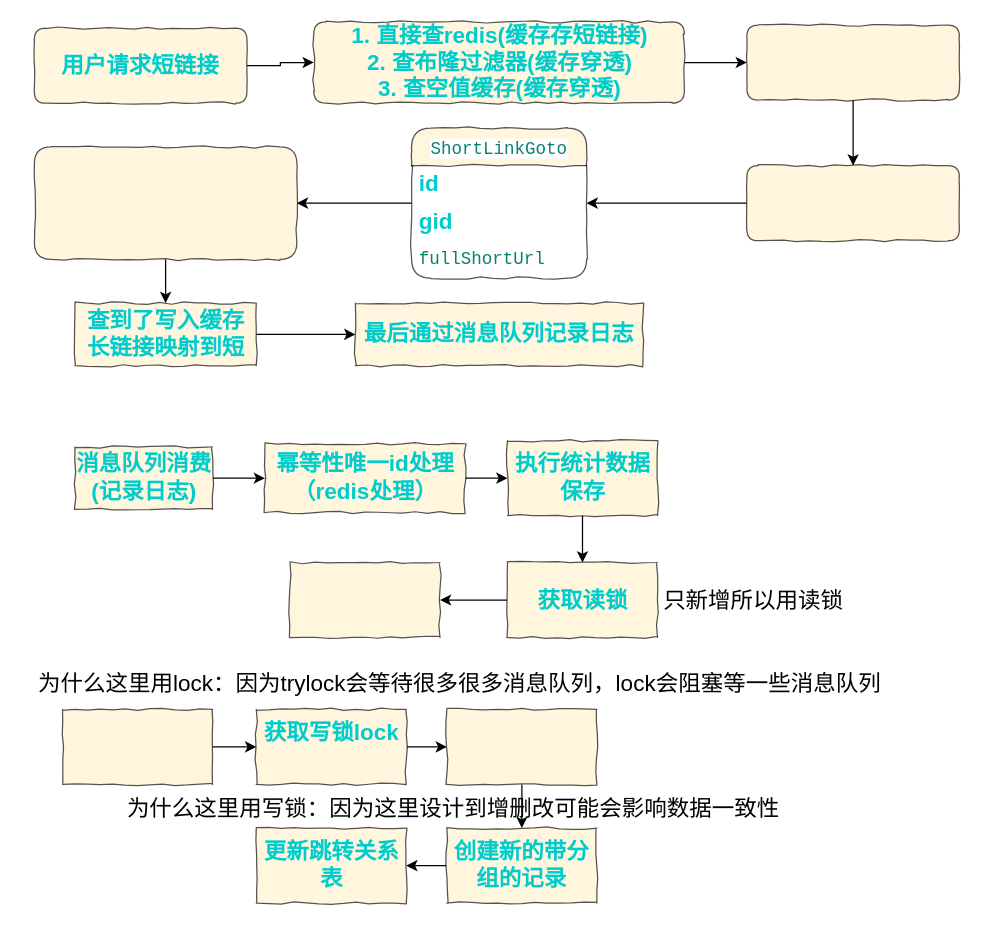
Image size: 981x925. Some labels were removed from this diagram. Here are the shapes that lost their labels. From the top down, the centre of each, then its label:
point (852, 62): 分布式锁 1. 查redis 2. 查空值缓存
point (165, 202): 根据gid（因为是分片键可以直接映射到某张表，不然就要union all）和 fullShortUrl查询完整短链接表
point (852, 202): 先查 ShortLinkGoto表
point (364, 599): 保存一些统计的各种东西
point (136, 746): 修改短链接的分组
point (521, 746): 将原记录删除
